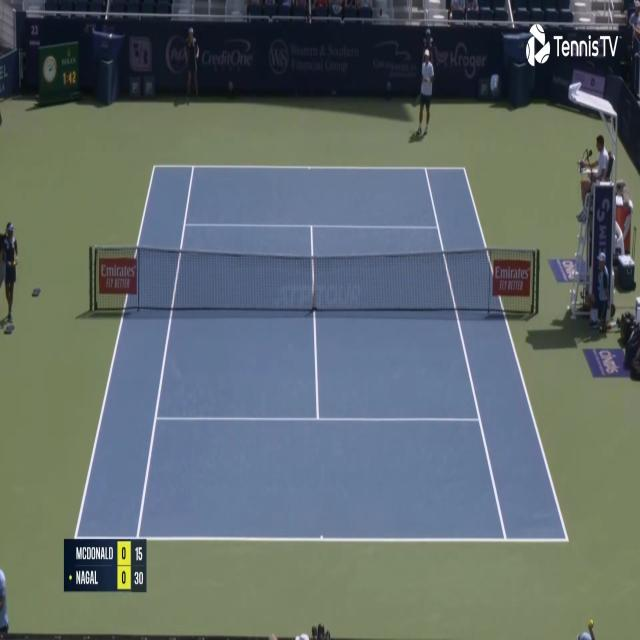tennis-player: (416, 46, 434, 136)
